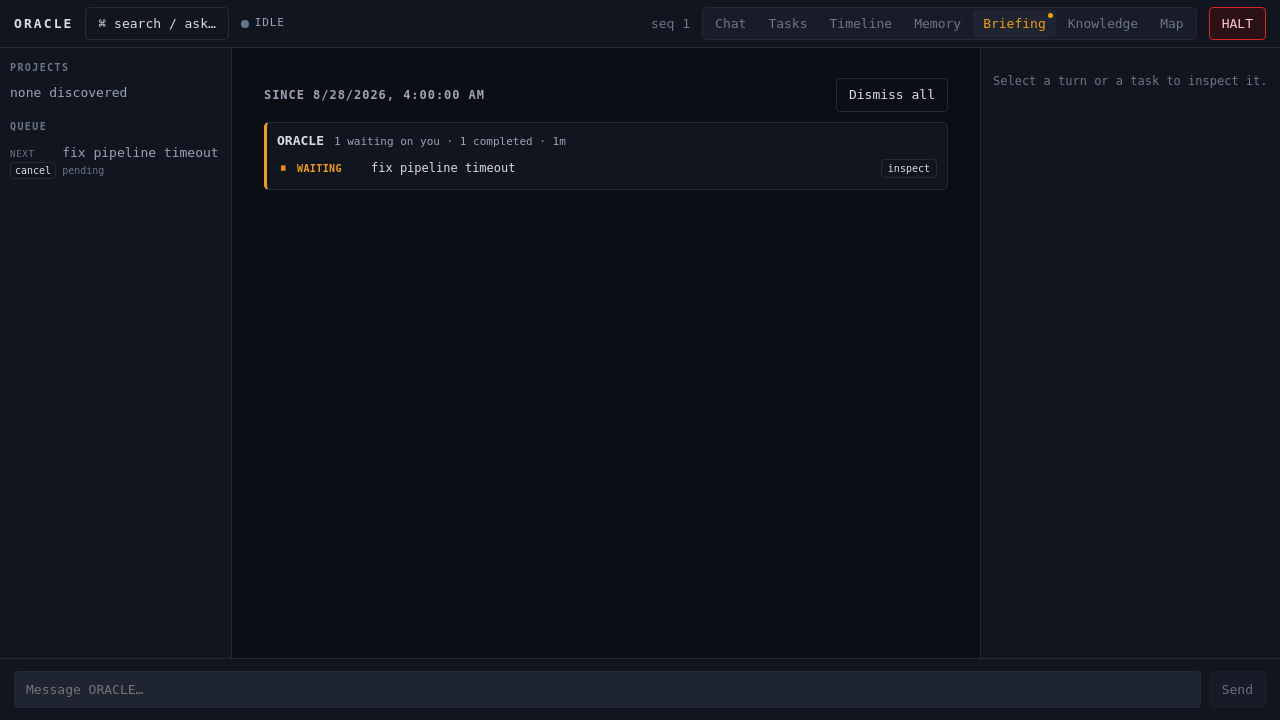
it: the briefing's inspect affordance › selects the TASK in the inspector — not a turn, and not silently the wrong thing
Click the button with aria-label "Inspect fix pipeline timeout in ORACLE": (909, 168) [881,159,937,178]
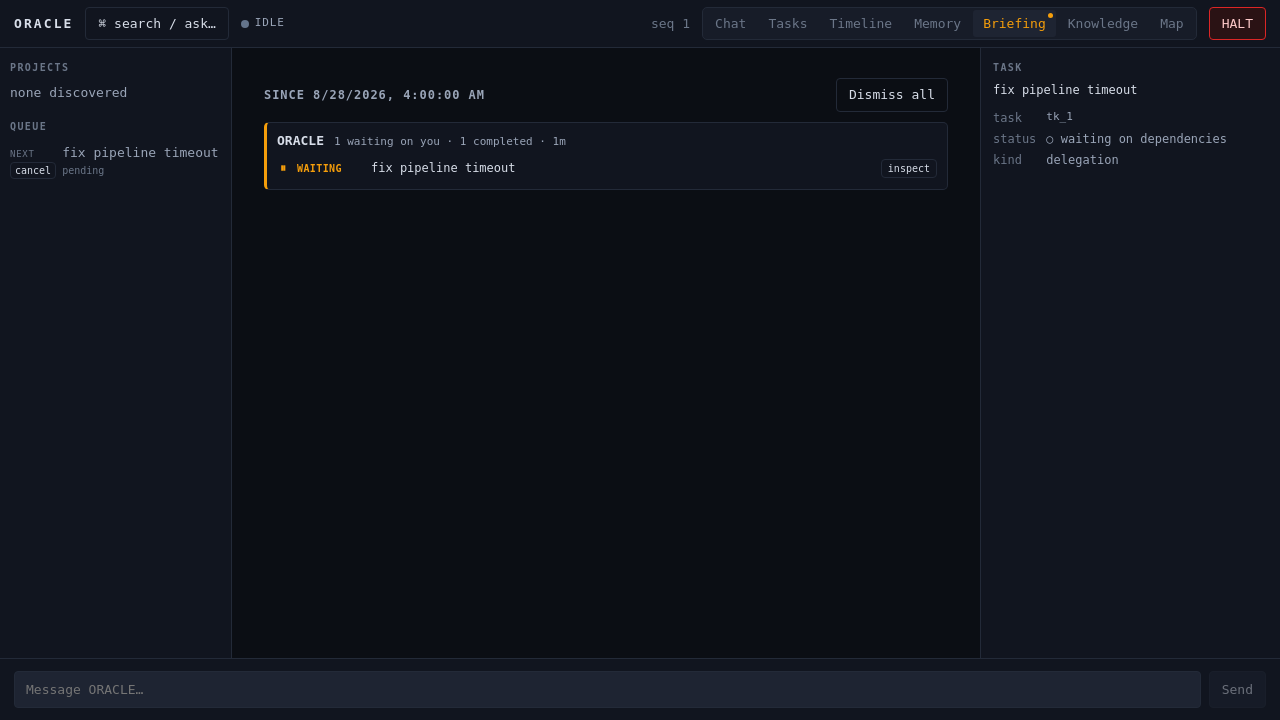
Expected: the tab "Briefing" is shown, [973,10,1056,37]
Expected: the heading "TASK" is shown, [993,62,1023,73]
Expected: the text "tk_1" is shown, [1046,110,1073,123]
